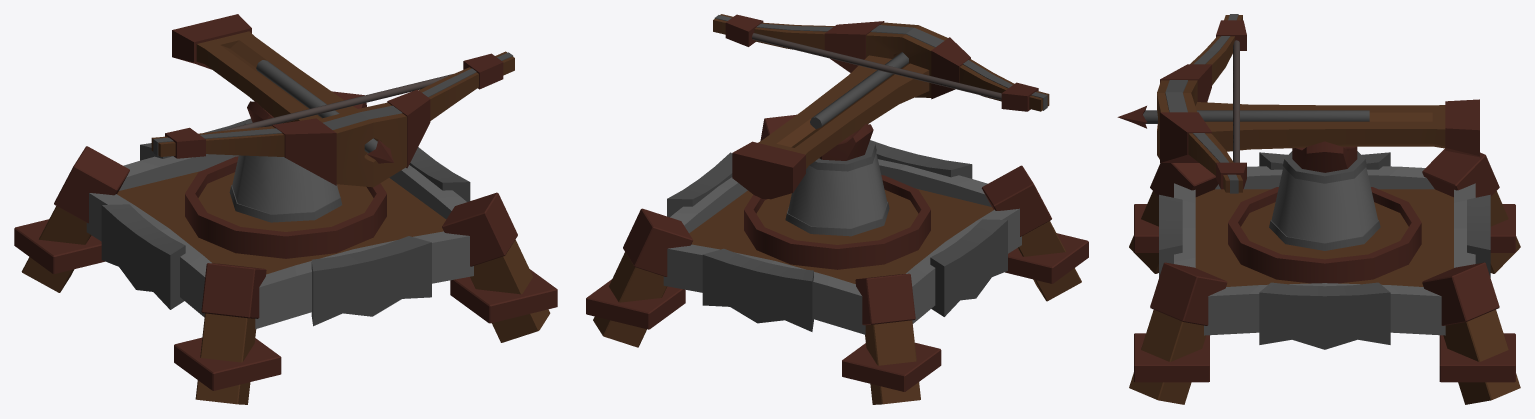
File: Ballista_T4.fbx
3 renders of one model, left to right at view 1: azimuth 30°, elevation 25°; view 2: azimuth 150°, elevation 25°; view 3: azimuth 270°, elevation 25°, orthographic. The views are drawn at different scales.
Parts seen in each view (by area): view 1: TowerFoot.003, PlatformBase.003, Reinforcements.001, TowerBase.003, BowBody.003, IronStrengthening.003, BallistaBody.003, TowerRotator.003, WoodEnd.003, Bow_Strengthening.001, ArrowString.003, ArrowBody.003 (+1 smaller); view 2: TowerFoot.003, PlatformBase.003, Reinforcements.001, TowerBase.003, TowerRotator.003, BallistaBody.003, IronStrengthening.003, BowBody.003, WoodEnd.003, ArrowString.003, TowerRotatorReinforcer.001, Bow_Strengthening.001 (+1 smaller); view 3: TowerFoot.003, PlatformBase.003, Reinforcements.001, TowerBase.003, BallistaBody.003, TowerRotator.003, IronStrengthening.003, BowBody.003, ArrowBody.003, TowerRotatorReinforcer.001, WoodEnd.003, Bow_Strengthening.001 (+1 smaller).
Part boxes in pixels (x1,y1,x2,y2): TowerFoot.003: (14, 91, 557, 404); PlatformBase.003: (86, 154, 473, 329); Reinforcements.001: (101, 118, 470, 326); TowerBase.003: (185, 156, 386, 258); BowBody.003: (151, 51, 514, 187); IronStrengthening.003: (165, 53, 503, 185); BallistaBody.003: (196, 31, 367, 155); TowerRotator.003: (232, 101, 339, 214); WoodEnd.003: (172, 14, 251, 69); Bow_Strengthening.001: (153, 52, 513, 155); ArrowString.003: (217, 74, 452, 131); ArrowBody.003: (256, 60, 377, 153); TowerFoot.003: (586, 114, 1088, 404); PlatformBase.003: (663, 159, 1021, 334); Reinforcements.001: (667, 140, 1007, 331); TowerBase.003: (744, 175, 930, 269); TowerRotator.003: (788, 124, 887, 228); BallistaBody.003: (758, 55, 929, 168); IronStrengthening.003: (725, 14, 1038, 111); BowBody.003: (713, 14, 1049, 111); WoodEnd.003: (732, 141, 805, 199); ArrowString.003: (752, 33, 1001, 100); TowerRotatorReinforcer.001: (785, 141, 889, 236); Bow_Strengthening.001: (714, 15, 1047, 110); TowerFoot.003: (1129, 149, 1520, 404); PlatformBase.003: (1174, 166, 1475, 335); Reinforcements.001: (1159, 152, 1490, 349); TowerBase.003: (1228, 187, 1421, 283); BallistaBody.003: (1195, 102, 1445, 151); TowerRotator.003: (1271, 141, 1377, 242); IronStrengthening.003: (1160, 20, 1246, 189); BowBody.003: (1157, 15, 1242, 192); ArrowBody.003: (1143, 110, 1369, 123); TowerRotatorReinforcer.001: (1269, 151, 1380, 250); WoodEnd.003: (1445, 99, 1479, 157); Bow_Strengthening.001: (1165, 14, 1238, 193).
Size of the model in its own units: 183 by 123 by 187.
